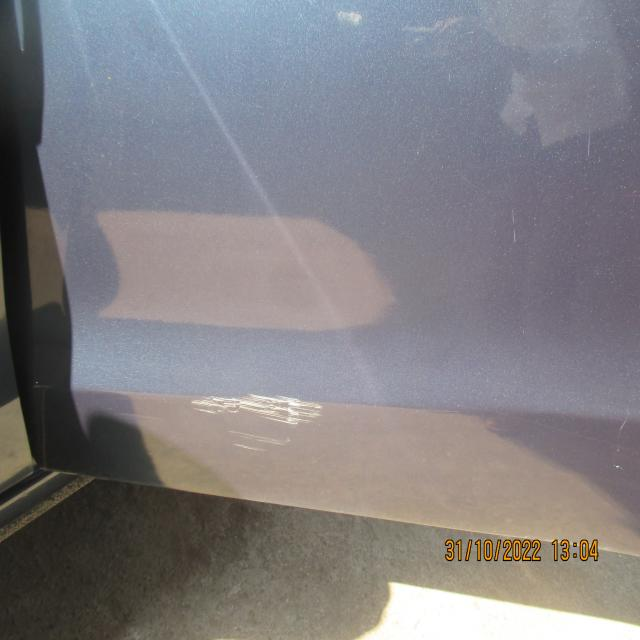damage: (191, 366, 322, 456)
